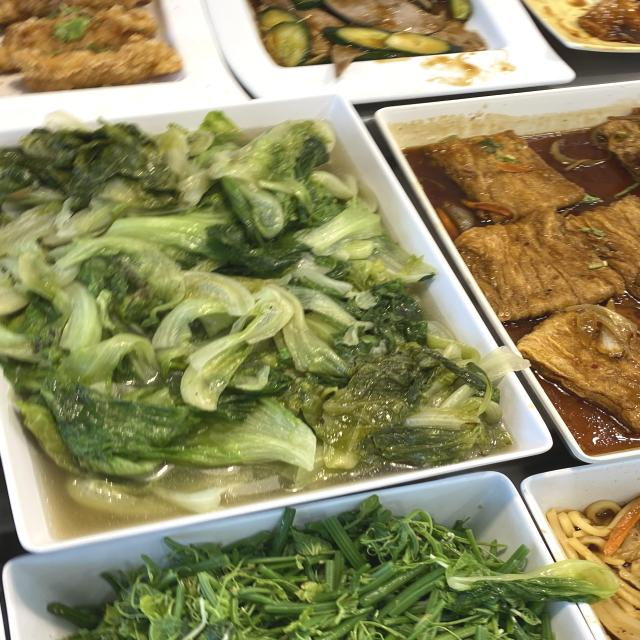Fushan-lettuce: (36, 178, 350, 456)
